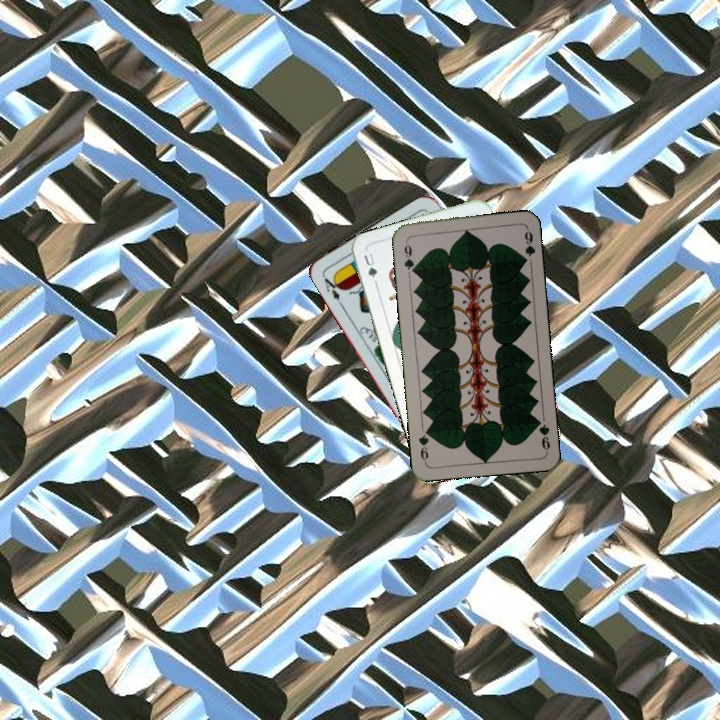EA: (318, 271, 344, 304)
G9: (532, 414, 553, 454), (400, 236, 418, 276)
GU: (359, 249, 380, 281)
